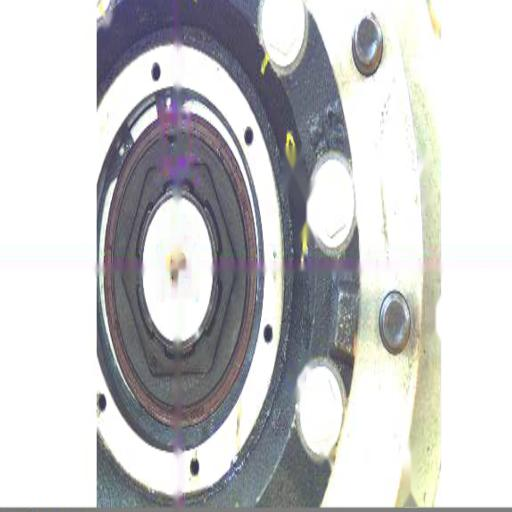center: (172, 264, 180, 288)
notch: (165, 125, 179, 154)
